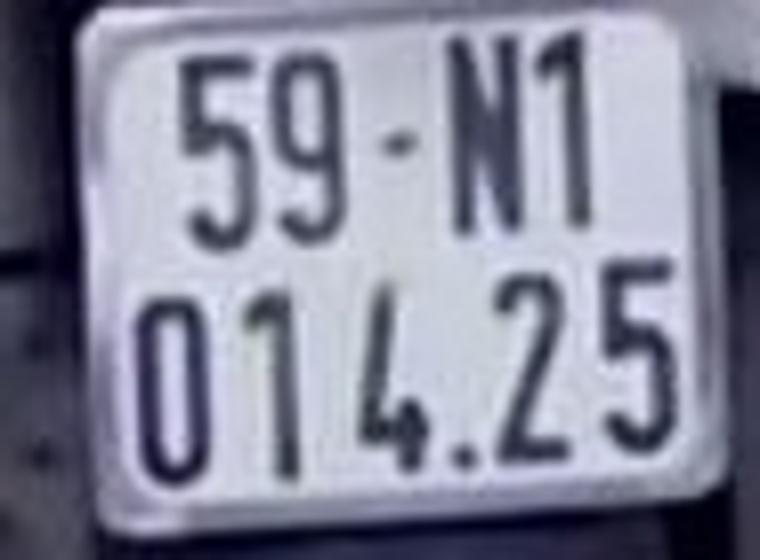-: (374, 128, 425, 164)
.: (446, 430, 489, 485)
0: (131, 295, 217, 490)
1: (237, 285, 315, 482), (537, 29, 605, 238)
2: (496, 271, 582, 470)
4: (352, 270, 439, 476)
5: (593, 256, 691, 449), (169, 50, 257, 253)
9: (262, 47, 360, 242)
N: (434, 37, 532, 237)
